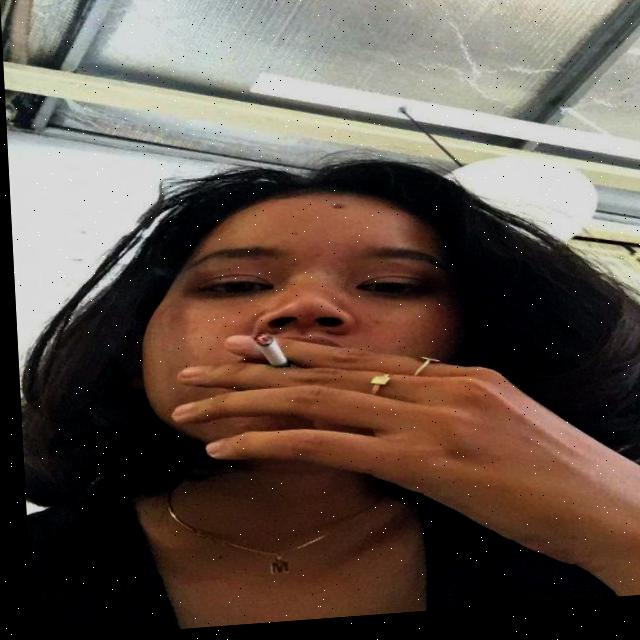cigarette: (252, 338, 284, 375)
